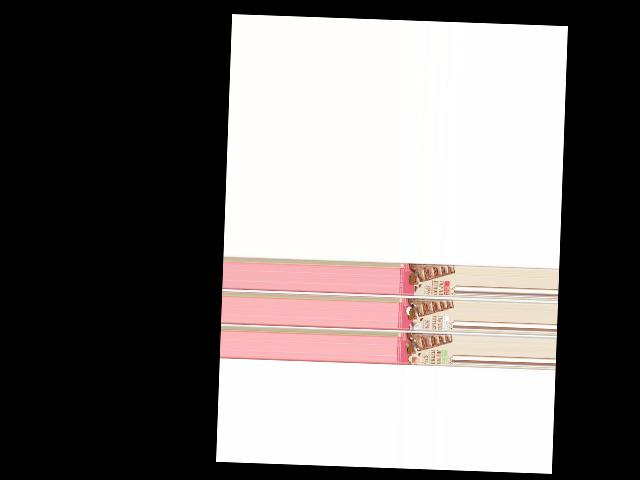chocolate: (395, 332, 453, 367)
